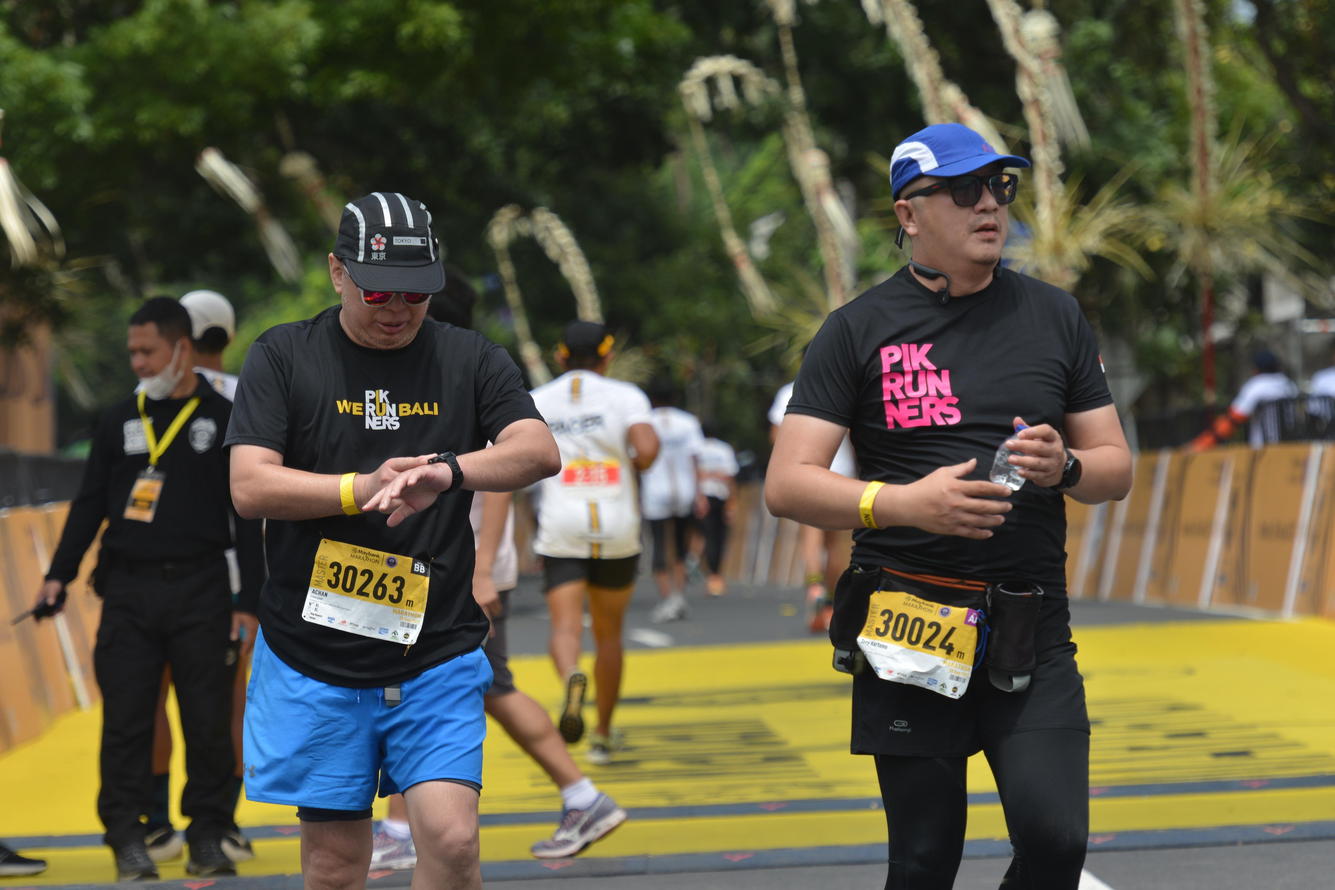bib: (305, 539, 427, 650), (856, 588, 980, 697)
